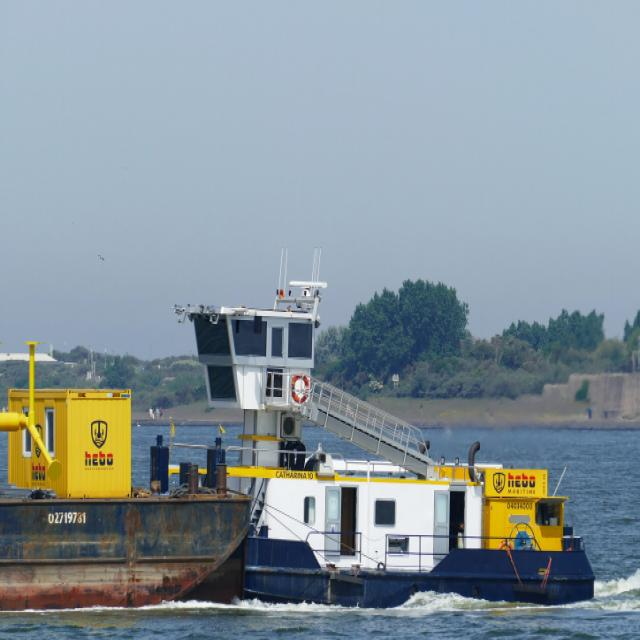tugboat: (145, 276, 602, 620)
